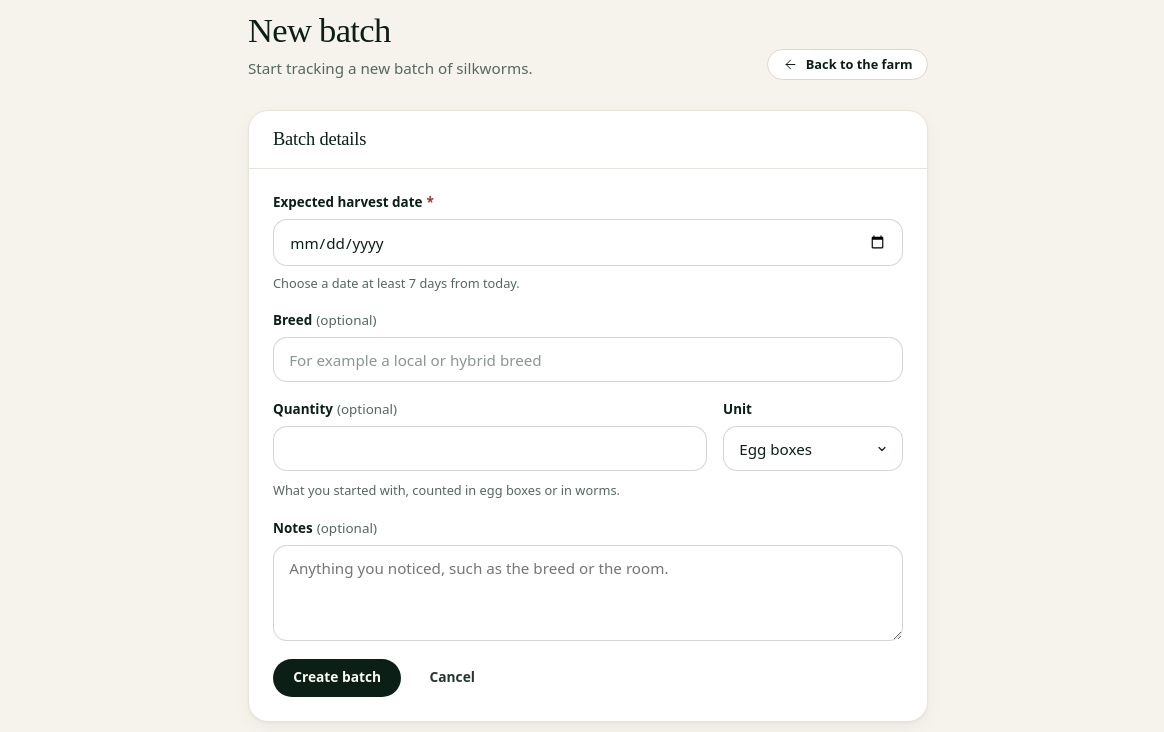
Test case: New batch page › says a quiet word on the first batch the farmer has started
Type "2030-01-15" into the date field labelled "Expected harvest date *".
click(588, 242); type("2030-01-15")  # box [273,219,903,266]
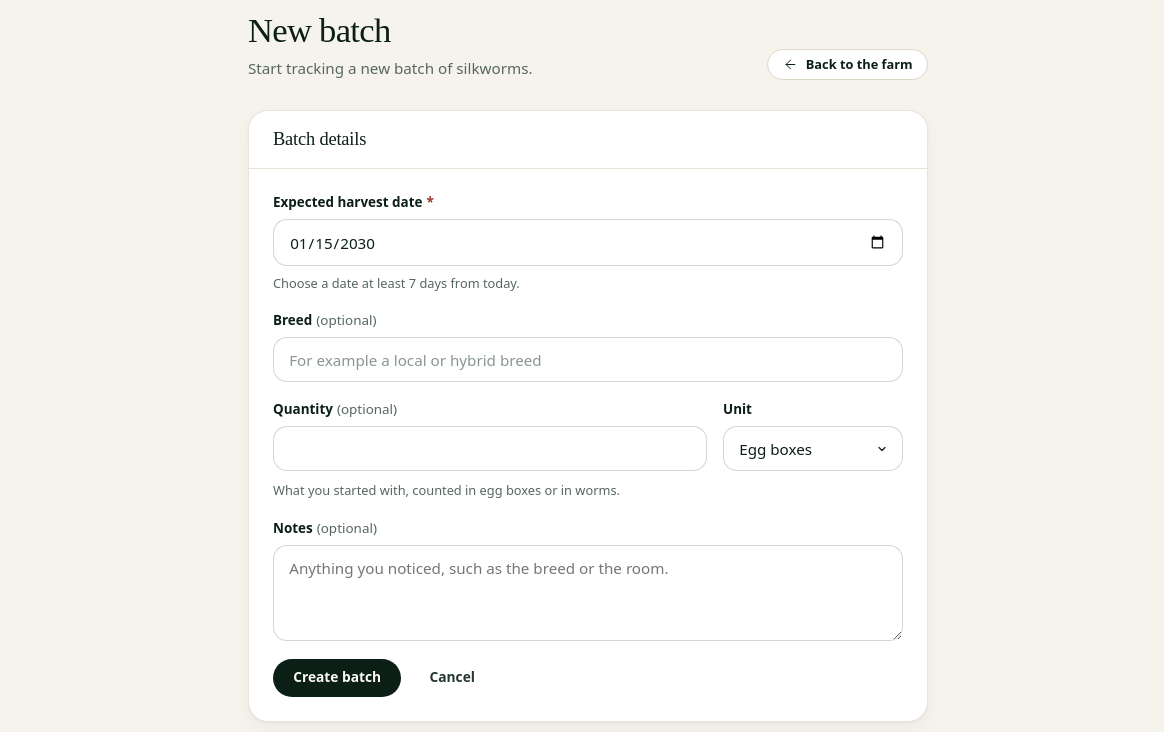
Click the button "Create batch".
click(337, 678)  # box [273,658,401,697]
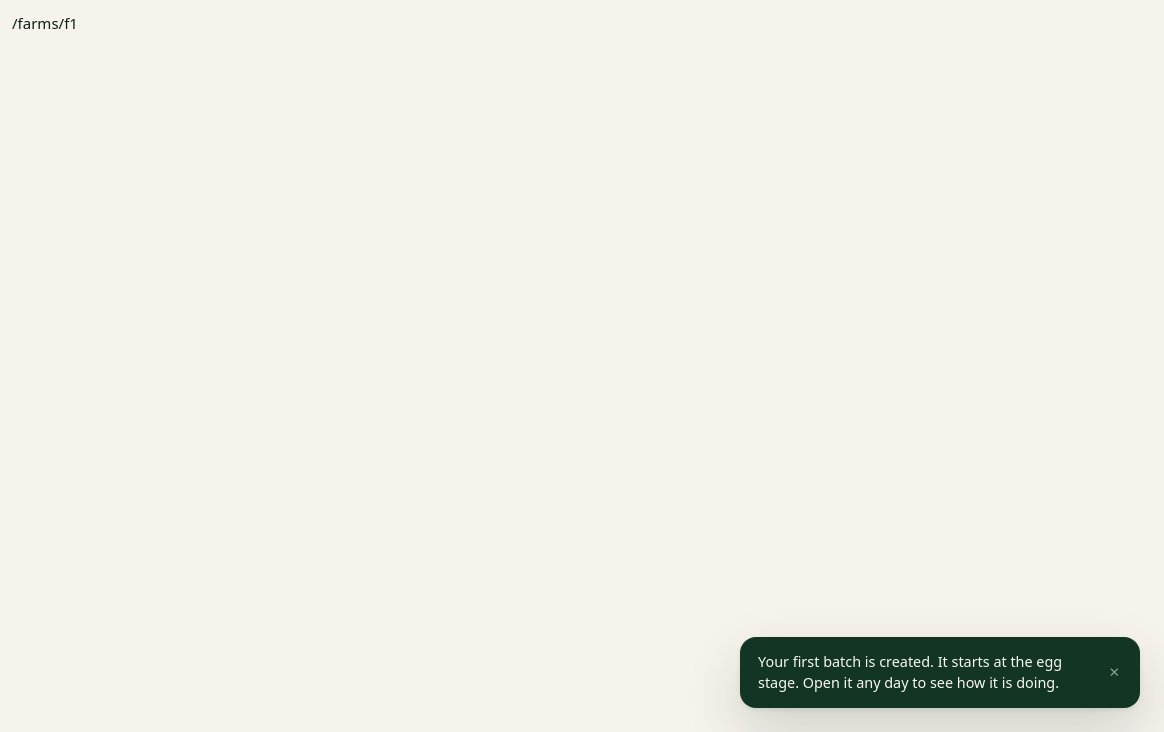
Now the text "Your first batch is created. It starts at the egg stage. Open it any day to see how it is doing." is shown, box [758,652,1062,692]
